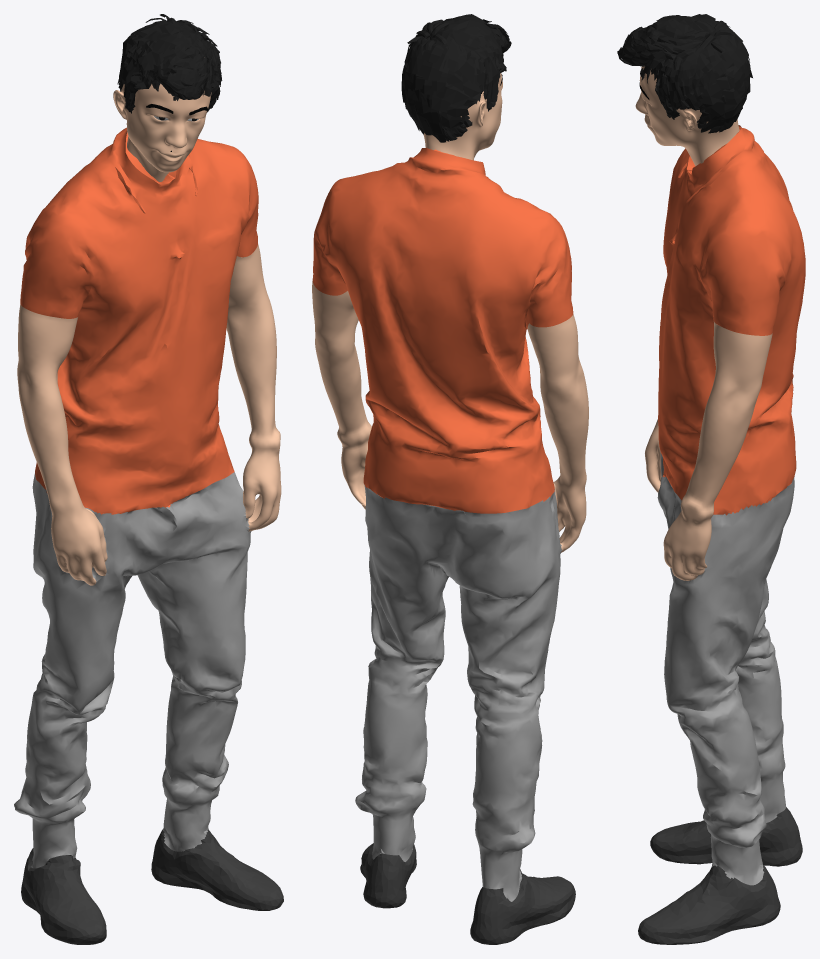
3 views of the same model, side by side, from view 1: azimuth 30°, elevation 25°; view 2: azimuth 150°, elevation 25°; view 3: azimuth 270°, elevation 25° (orthographic). The views are drawn at different scales.
Visible parts, largest first — view 1: clothes, trousers, arm, shoes, Hair.3, FaceBuilderHead.1; view 2: clothes, trousers, arm, Hair.3, shoes, FaceBuilderHead.1; view 3: clothes, trousers, arm, shoes, Hair.3, FaceBuilderHead.1.
Boxes of the visible parts, bbox=[...] form: clothes: bbox=[20, 127, 258, 514]; trousers: bbox=[14, 472, 250, 868]; arm: bbox=[17, 244, 281, 585]; shoes: bbox=[21, 828, 283, 944]; Hair.3: bbox=[117, 14, 222, 113]; FaceBuilderHead.1: bbox=[113, 83, 211, 181]; clothes: bbox=[312, 147, 573, 513]; trousers: bbox=[355, 485, 562, 901]; arm: bbox=[312, 281, 588, 552]; Hair.3: bbox=[401, 14, 511, 142]; shoes: bbox=[360, 843, 575, 944]; FaceBuilderHead.1: bbox=[423, 73, 502, 160]; clothes: bbox=[658, 125, 805, 515]; trousers: bbox=[657, 453, 794, 885]; arm: bbox=[645, 322, 772, 580]; shoes: bbox=[638, 807, 802, 944]; Hair.3: bbox=[617, 14, 752, 133]; FaceBuilderHead.1: bbox=[635, 66, 739, 166].
Size of the model in its own units: 0.5391 by 1.77 by 0.342.
